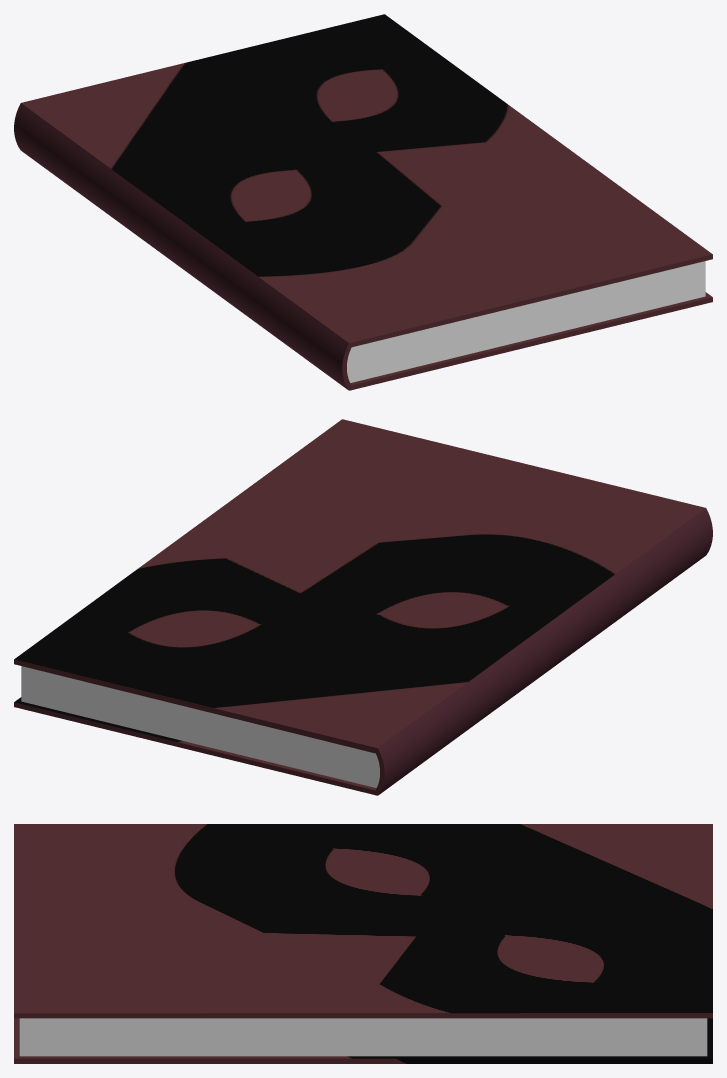
The model's file is thief book.fbx.
3 views of the same model, one above another, from view 1: azimuth 30°, elevation 25°; view 2: azimuth 150°, elevation 25°; view 3: azimuth 270°, elevation 25° (orthographic). The views are drawn at different scales.
Parts seen in each view (by area): view 1: book_shape:polySurface1; view 2: book_shape:polySurface1; view 3: book_shape:polySurface1.
Boxes of the visible parts, box(x1,y1,x2,y2) form: book_shape:polySurface1: box(14, 14, 712, 390); book_shape:polySurface1: box(14, 419, 712, 795); book_shape:polySurface1: box(14, 824, 712, 1063).
Bounding box in the file's own units: 16.3 × 2 × 25.
3 materials, 1 textured.
